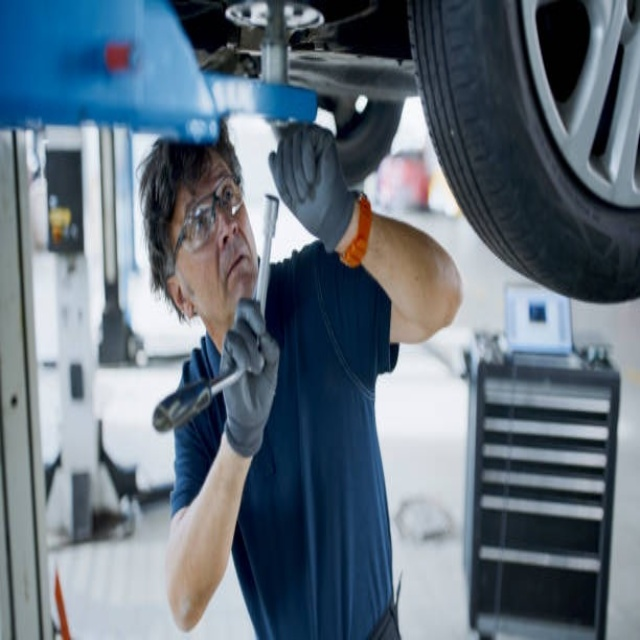Gafas: (170, 169, 244, 275)
Guantes: (266, 122, 358, 255), (219, 296, 279, 457)
Sin_mascara: (220, 246, 253, 292)
